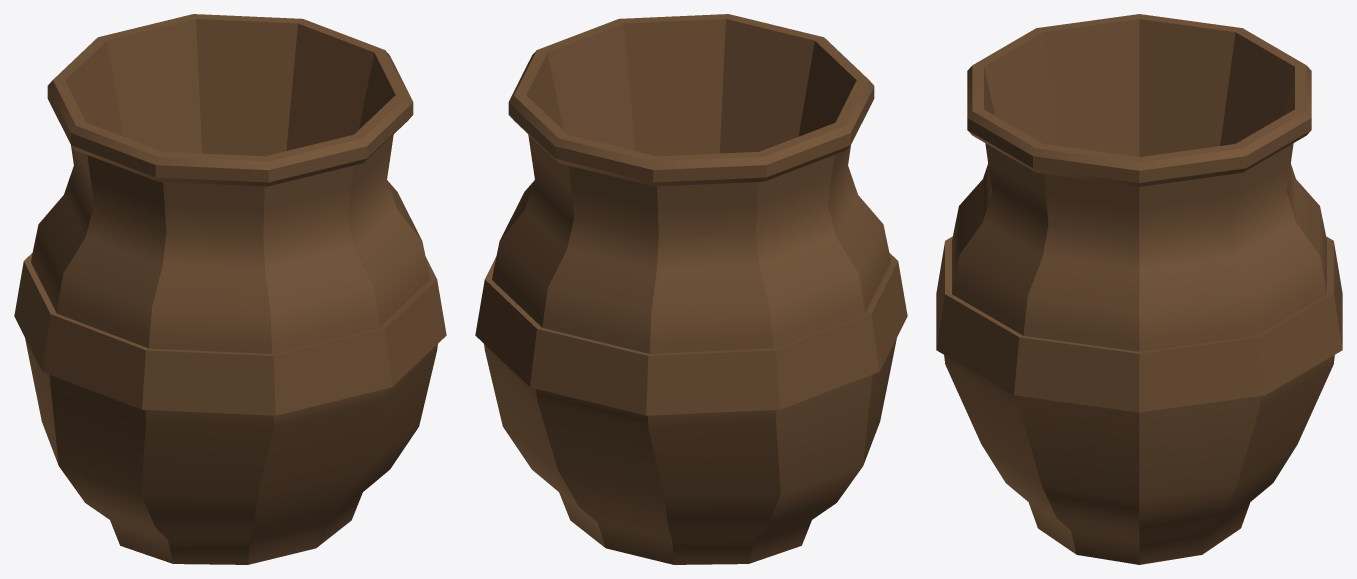
File: Clay_Pot_Two.fbx
The picture shows the model from 3 angles, left to right: view 1: azimuth 30°, elevation 25°; view 2: azimuth 150°, elevation 25°; view 3: azimuth 270°, elevation 25°; orthographic projection.
Parts seen in each view (by area): view 1: Clay_Pot_Two; view 2: Clay_Pot_Two; view 3: Clay_Pot_Two.
Boxes of the visible parts, x1,y1,x2,y2 form: Clay_Pot_Two: (14,14,446,564); Clay_Pot_Two: (475,14,907,564); Clay_Pot_Two: (936,14,1342,564).
Bounding box in the file's own units: 1.27 × 1.39 × 1.21.
